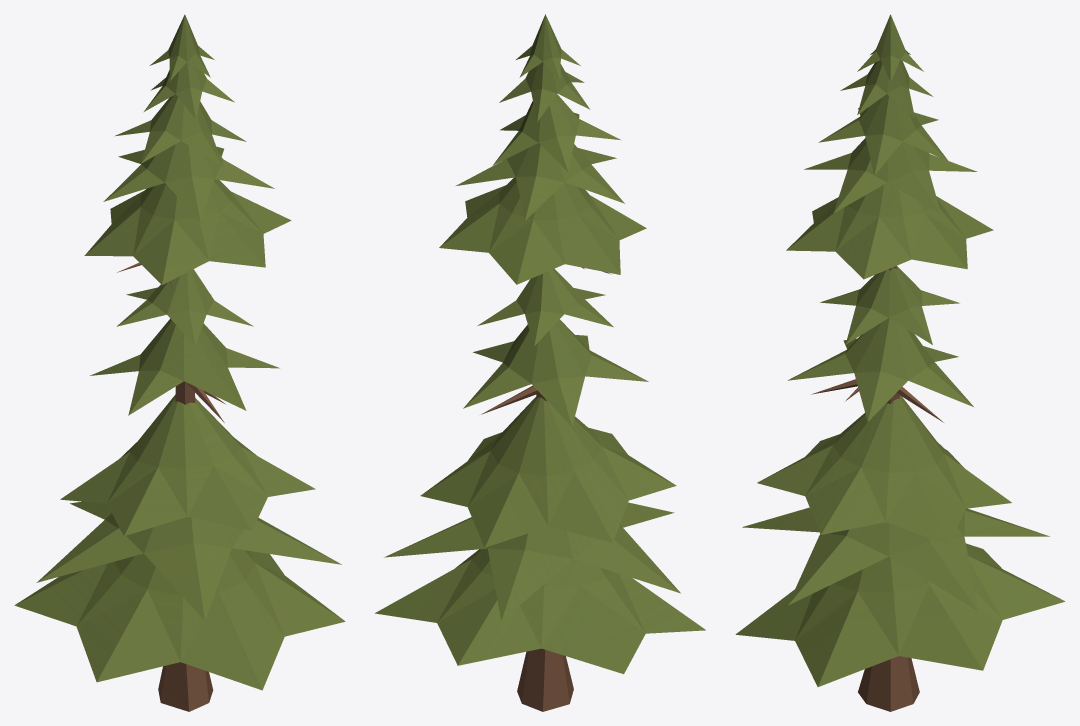
The model's file is Tree_3_TD.fbx.
3 renders of one model, left to right at view 1: azimuth 30°, elevation 25°; view 2: azimuth 150°, elevation 25°; view 3: azimuth 270°, elevation 25°, orthographic.
Parts seen in each view (by area): view 1: polySurface10453; view 2: polySurface10453; view 3: polySurface10453.
Boxes of the visible parts, x1,y1,x2,y2 form: polySurface10453: [14, 14, 345, 711]; polySurface10453: [375, 14, 705, 711]; polySurface10453: [735, 14, 1065, 711].
Size of the model in its own units: 246 by 602 by 264.
